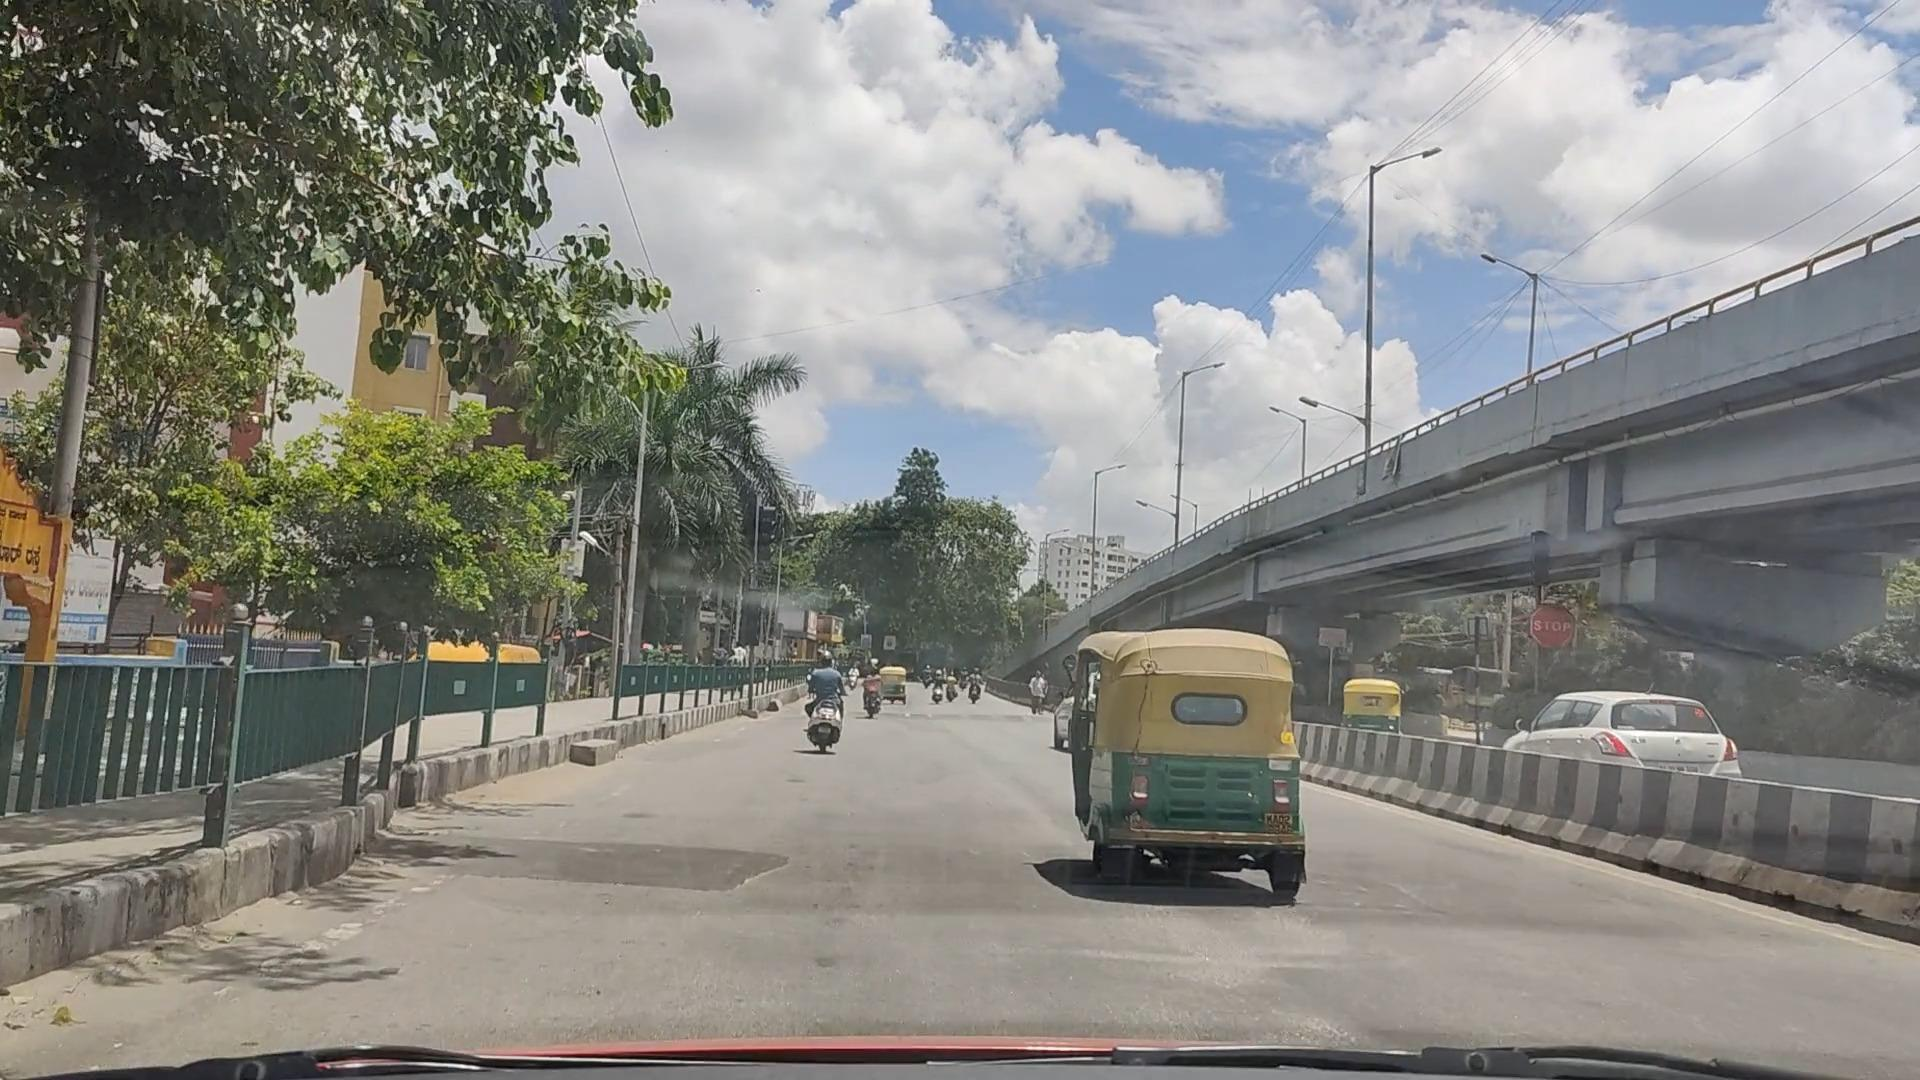LMV: (1076, 612, 1305, 887)
RoadDamages: (1141, 918, 1403, 1058)
